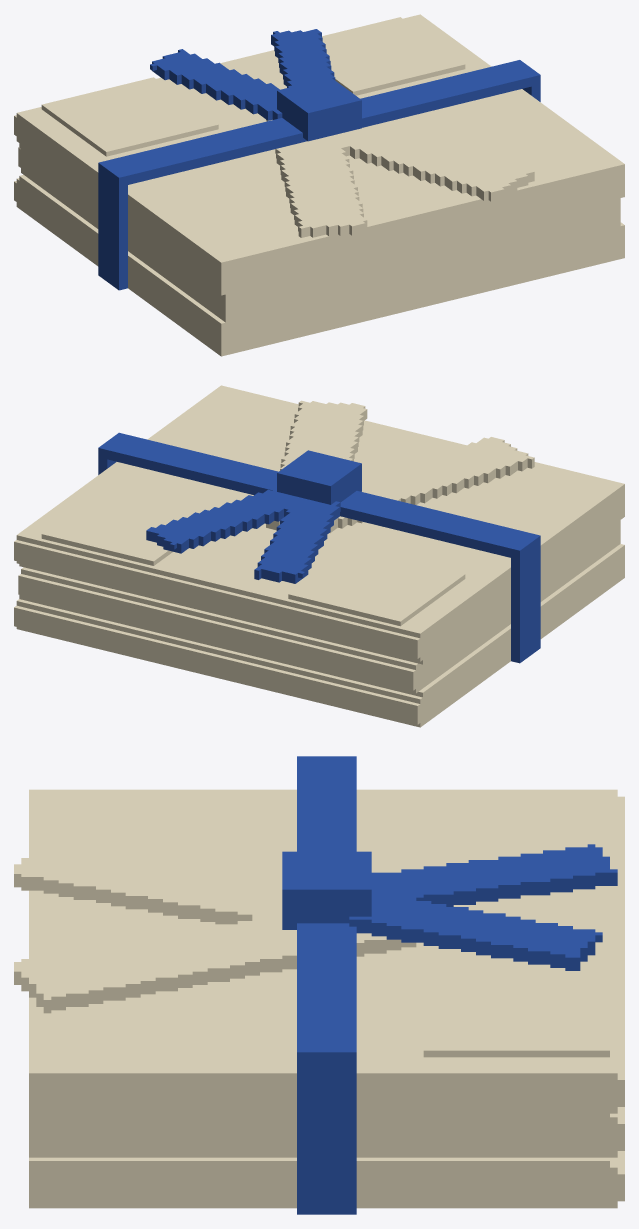
Rendered from house_coat.glb.
The picture shows the model from 3 angles, top to bottom: view 1: azimuth 30°, elevation 25°; view 2: azimuth 150°, elevation 25°; view 3: azimuth 270°, elevation 25°; orthographic projection. The views are drawn at different scales.
Parts seen in each view (by area): view 1: house_coat:compound; view 2: house_coat:compound; view 3: house_coat:compound.
Part boxes in pixels (x1=…): house_coat:compound: x1=14, y1=14, x2=624, y2=356; house_coat:compound: x1=14, y1=385, x2=624, y2=727; house_coat:compound: x1=14, y1=756, x2=624, y2=1214.
Size of the model in its own units: 0.376 by 0.116 by 0.328.
